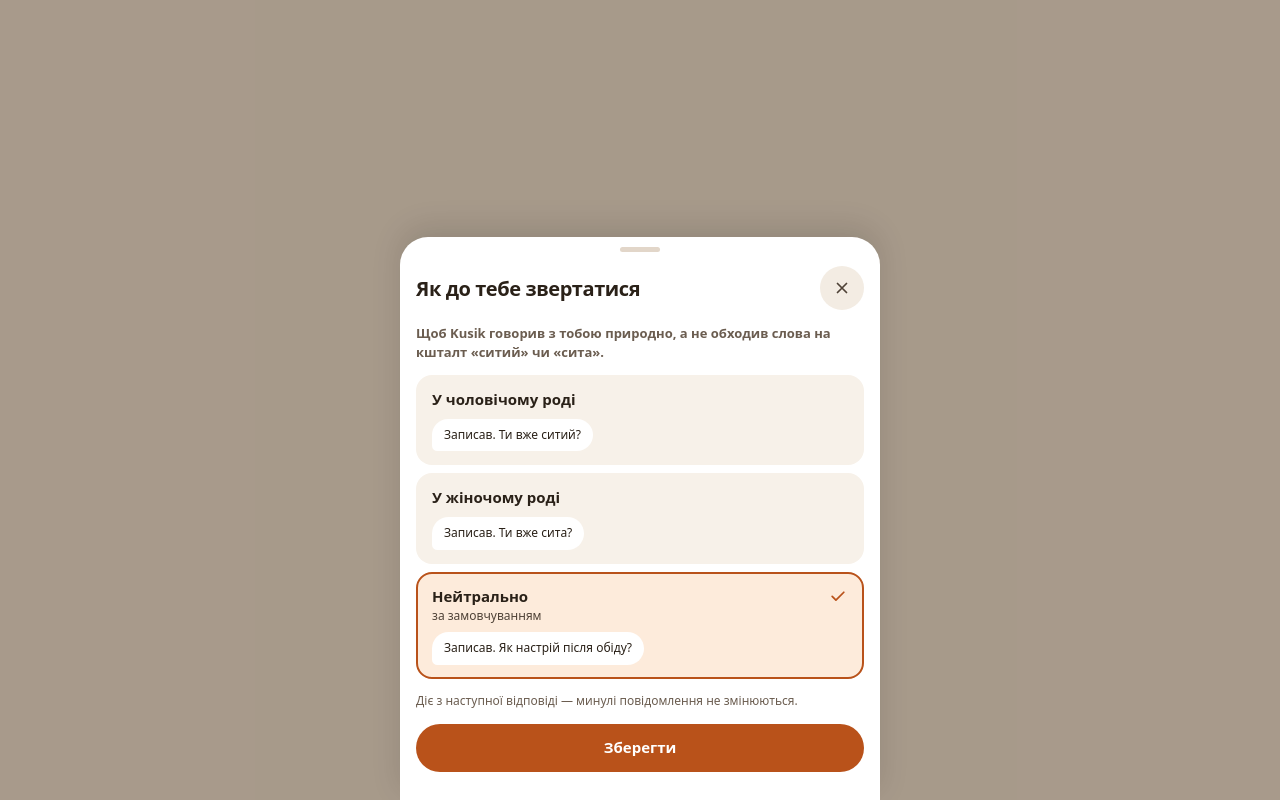
EditAddressFormSheet › keeps the sheet open and shows a toast when saving fails
This screenshot has width=1280, height=800.
Click the button "Зберегти": (640, 748) 416,724 -> 864,772
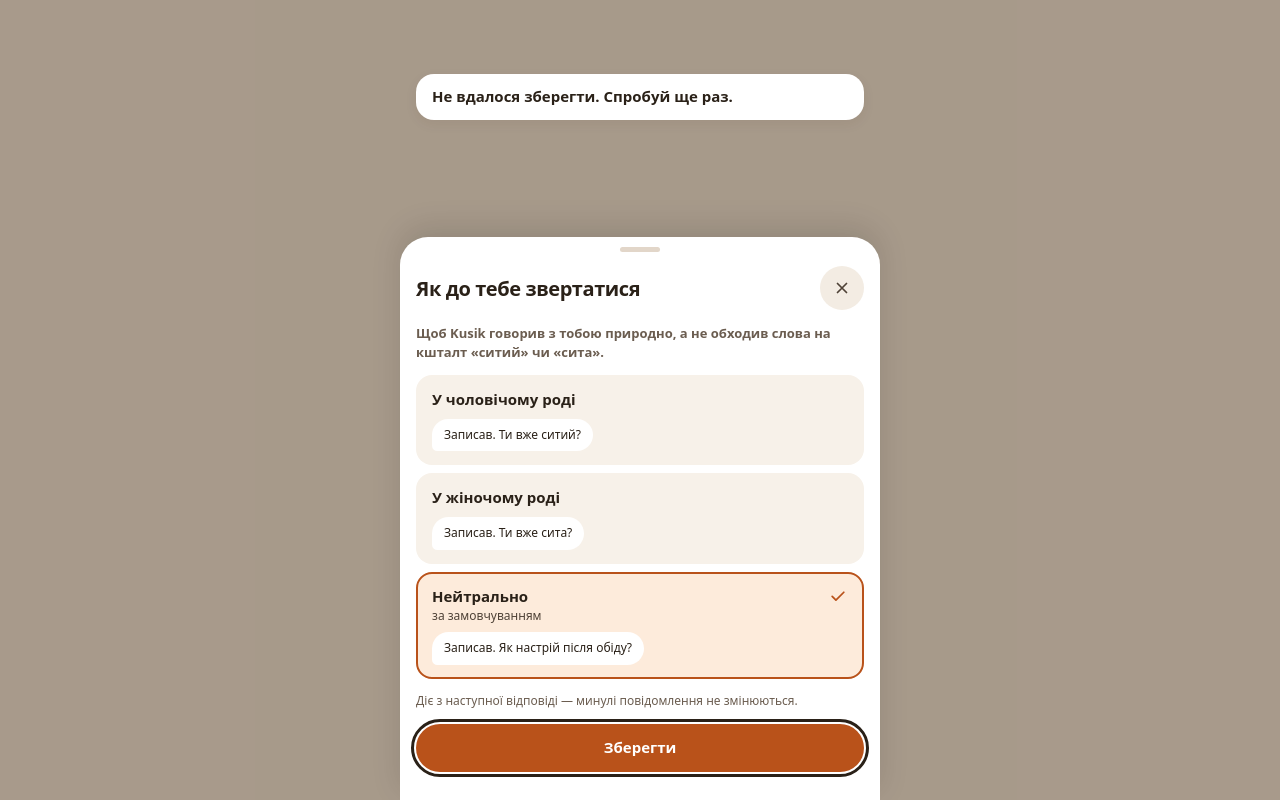
Now the text "Не вдалося зберегти. Спробуй ще раз." is shown, box 432,86 -> 733,108
